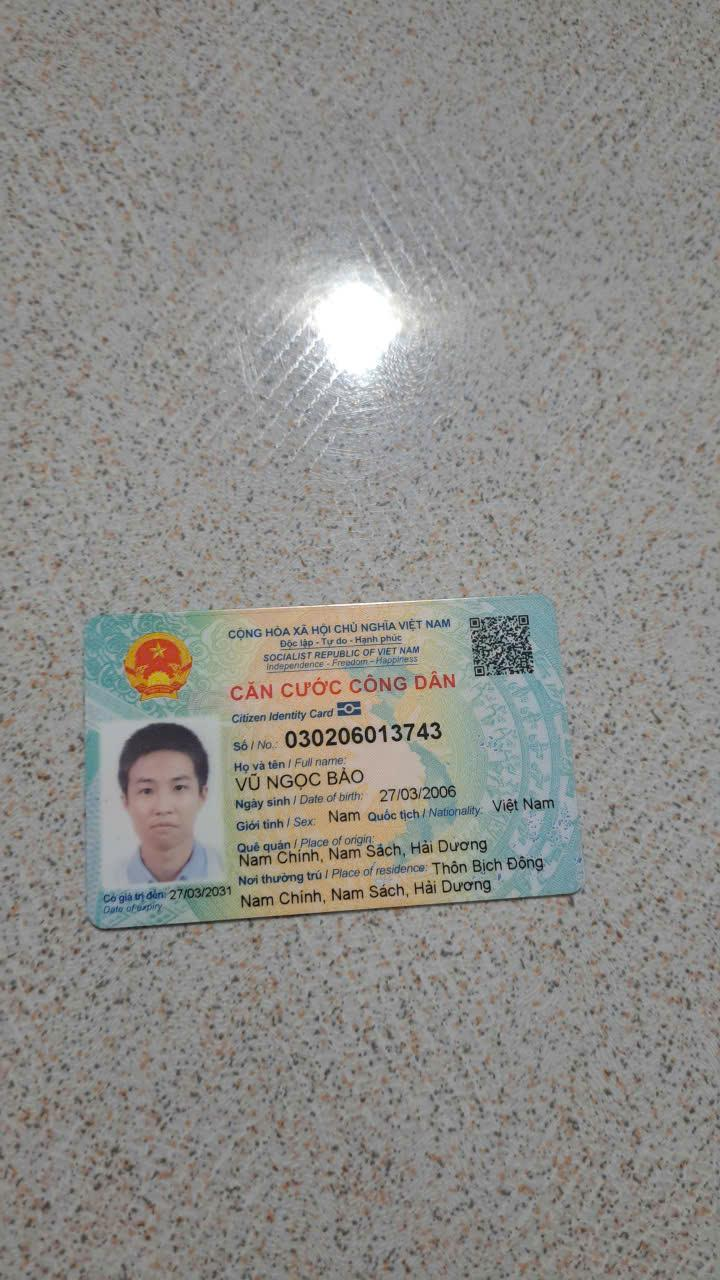cccd: (75, 588, 586, 941)
